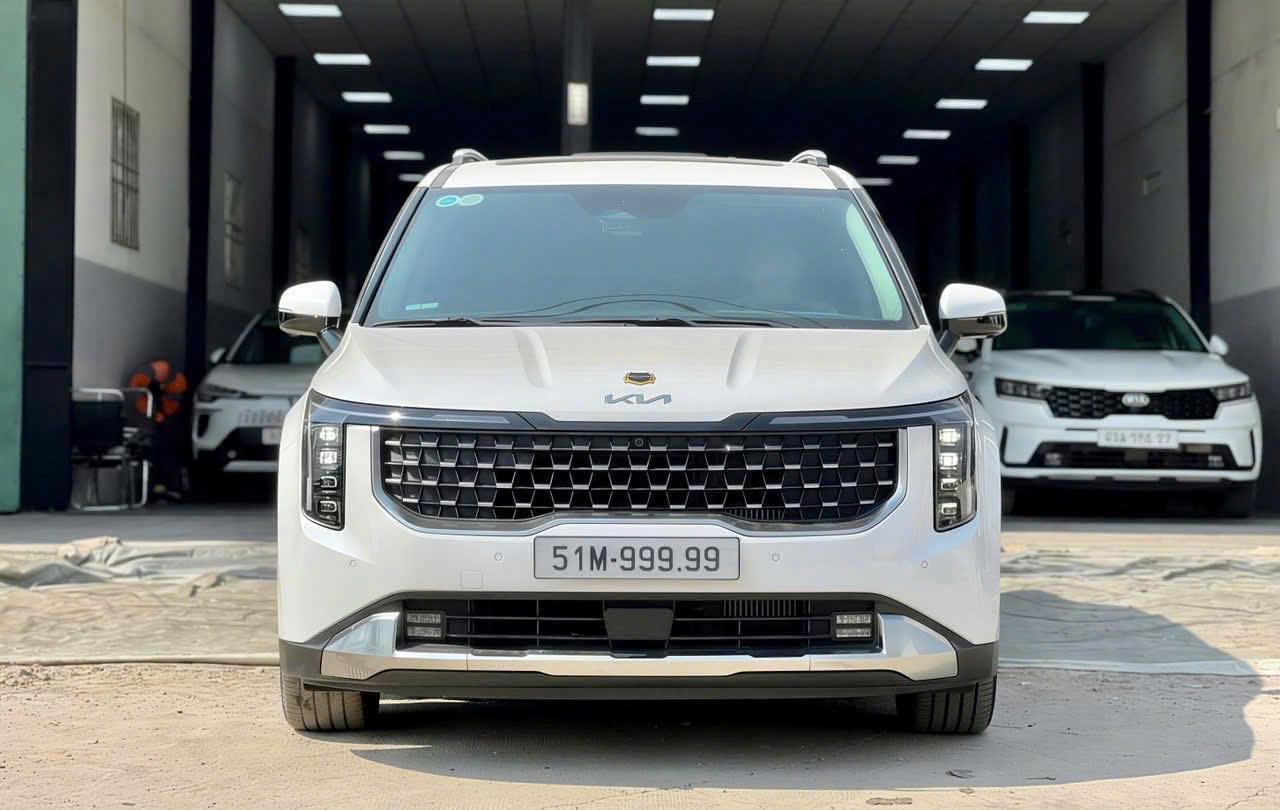Bien-so: (528, 540, 747, 582)
